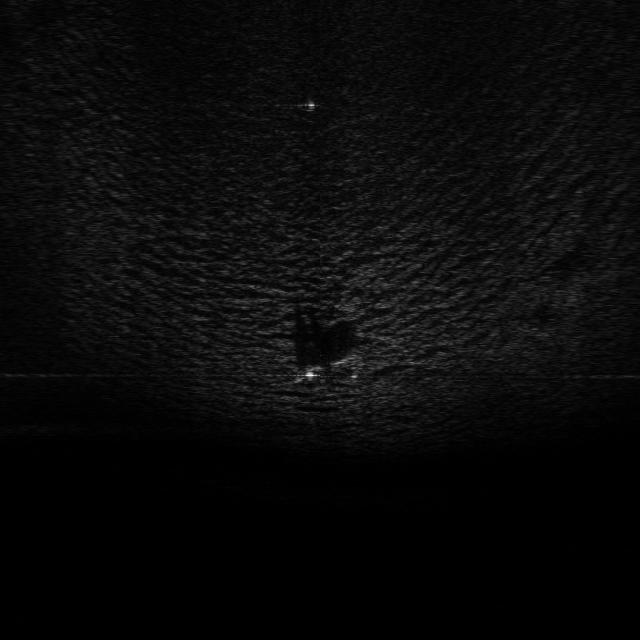plane: (288, 350, 361, 384)
